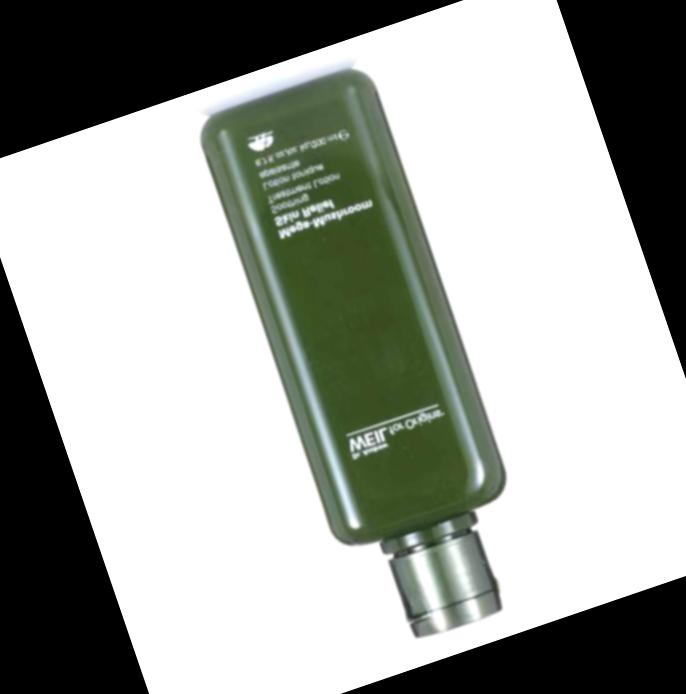cosmetic: (187, 56, 553, 662)
